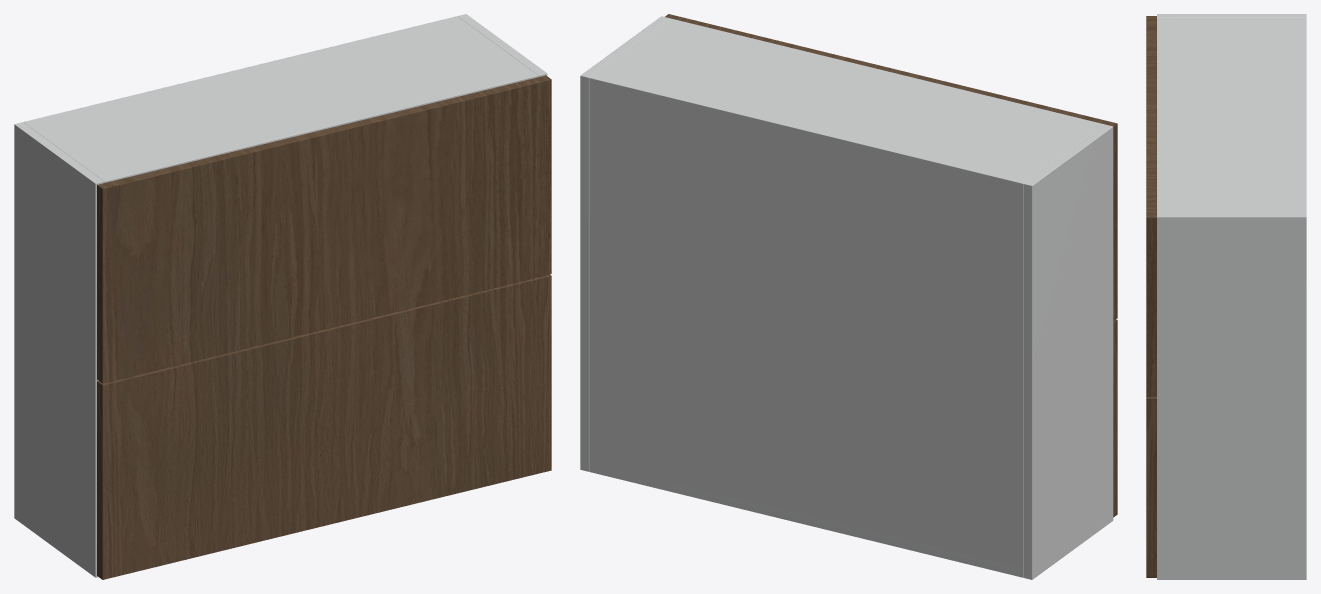
The model's file is oppein-ply-mso-wbf3630.glb.
3 views of the same model, side by side, from view 1: azimuth 30°, elevation 25°; view 2: azimuth 150°, elevation 25°; view 3: azimuth 270°, elevation 25° (orthographic). The views are drawn at different scales.
Parts seen in each view (by area): view 1: Door.001, Door, Cabinet top, Cabinet side, Cabinet back, Cabinet side.001; view 2: Cabinet back, Cabinet side, Cabinet top, Cabinet side.001, Cabinet bottom, Door.001, Door; view 3: Cabinet side.001, Cabinet top, Door.001, Door, Cabinet back, Cabinet side.
Boxes of the visible parts, box(x1,y1,x2,y2) form: Door.001: box(97, 75, 551, 383); Door: box(97, 274, 551, 579); Cabinet top: box(23, 18, 538, 182); Cabinet side: box(14, 122, 104, 577); Cabinet back: box(24, 16, 459, 124); Cabinet side.001: box(458, 14, 547, 76); Cabinet back: box(589, 75, 1025, 577); Cabinet side: box(1023, 124, 1113, 579); Cabinet top: box(589, 18, 1104, 191); Cabinet side.001: box(580, 16, 669, 471); Cabinet bottom: box(589, 464, 1023, 577); Door.001: box(665, 14, 1117, 320); Door: box(1113, 319, 1117, 517); Cabinet side.001: box(1157, 213, 1306, 579); Cabinet top: box(1157, 18, 1306, 213); Door.001: box(1146, 16, 1156, 396); Door: box(1146, 397, 1156, 577); Cabinet back: box(1300, 18, 1306, 213); Cabinet side: box(1157, 14, 1306, 17).
Size of the model in its own units: 0.9144 by 0.762 by 0.3048.
2 materials, 1 textured.
